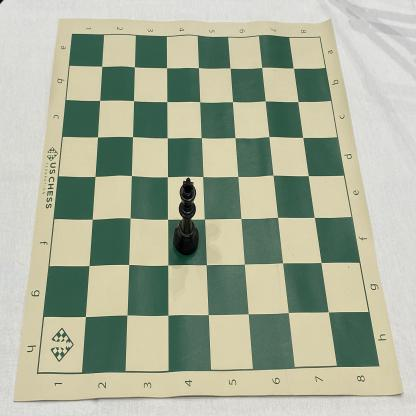black-king: (173, 177, 199, 256)
